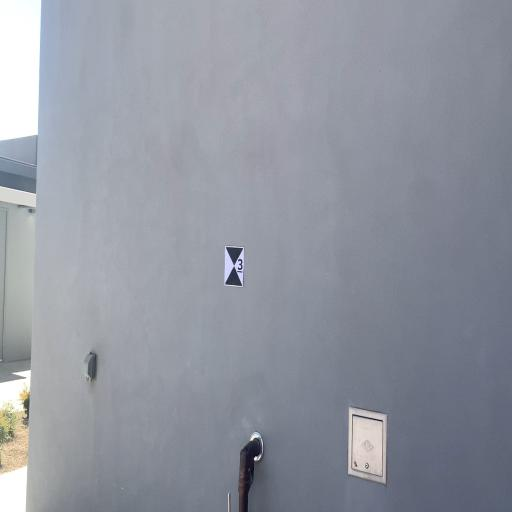target3: (224, 244, 244, 286)
